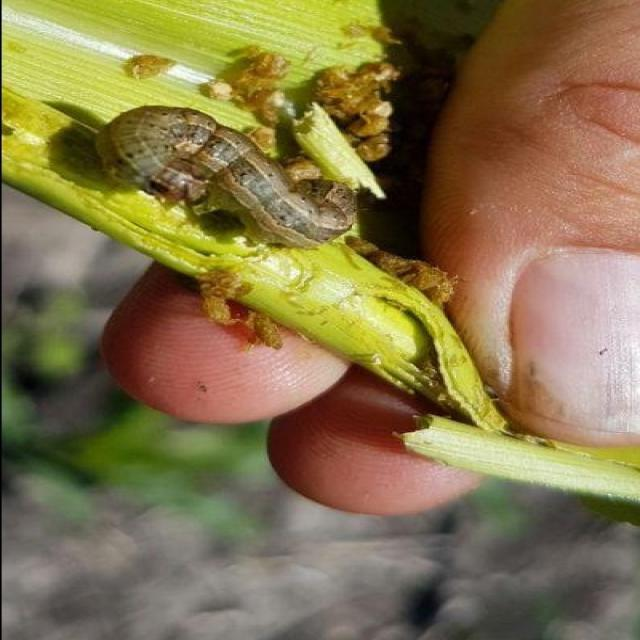army worm: (82, 103, 368, 262)
